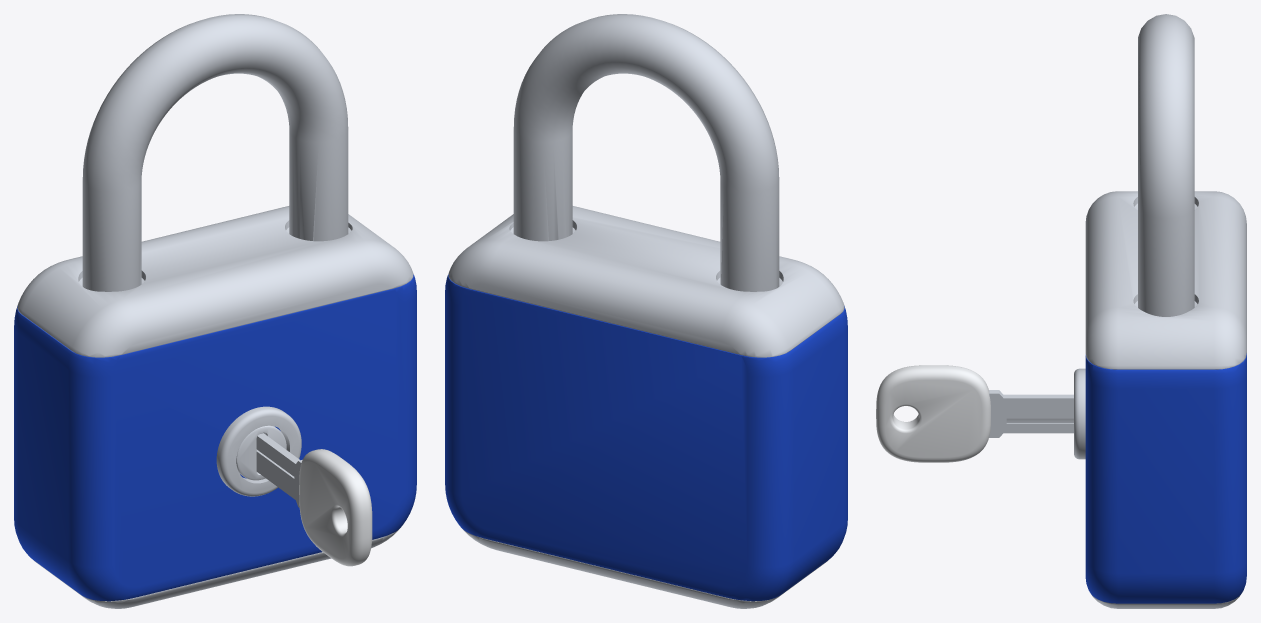
The model's file is lock.BgyV0kvX.glb.
3 views of the same model, side by side, from view 1: azimuth 30°, elevation 25°; view 2: azimuth 150°, elevation 25°; view 3: azimuth 270°, elevation 25° (orthographic). The views are drawn at different scales.
Parts seen in each view (by area): view 1: BodyMesh, ShackleMesh, KeyMesh, PlugMesh; view 2: BodyMesh, ShackleMesh; view 3: BodyMesh, ShackleMesh, KeyMesh.
Boxes of the visible parts, x1,y1,x2,y2 form: BodyMesh: [14, 206, 416, 608]; ShackleMesh: [82, 14, 348, 291]; KeyMesh: [256, 433, 372, 566]; PlugMesh: [236, 425, 286, 480]; BodyMesh: [445, 206, 847, 608]; ShackleMesh: [513, 14, 779, 291]; BodyMesh: [1074, 191, 1246, 608]; ShackleMesh: [1138, 14, 1194, 316]; KeyMesh: [876, 365, 1073, 462].
Bounding box in the file's own units: 1 × 1.49 × 0.965.
